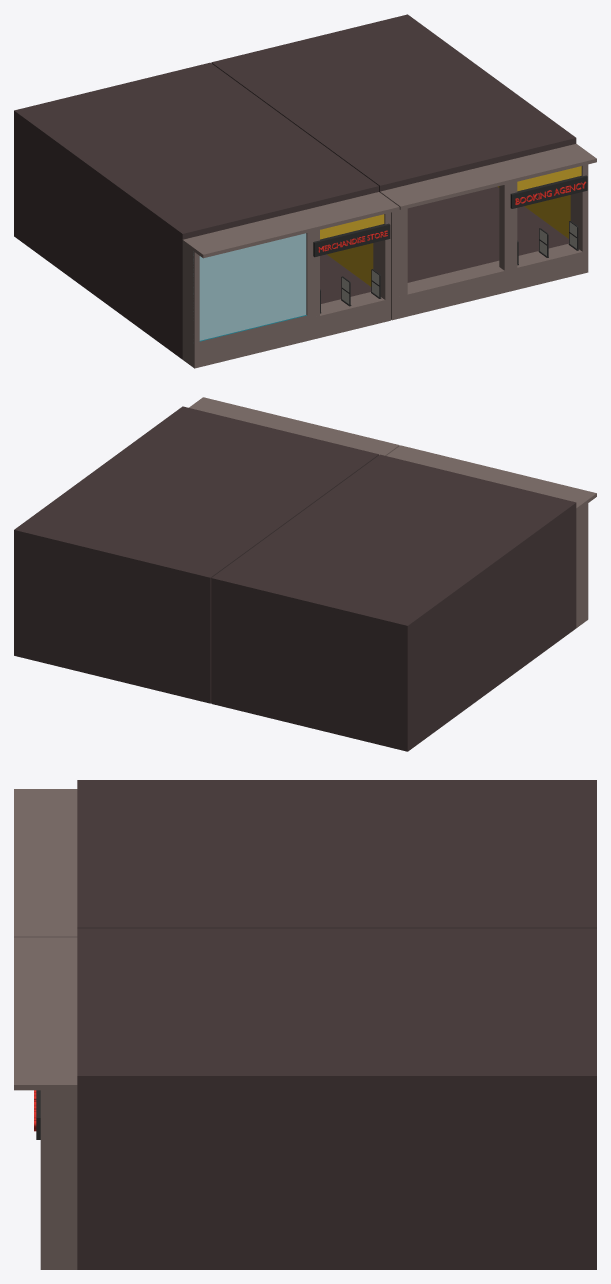
Rendered from Merchandise.fbx.
3 renders of one model, top to bottom at view 1: azimuth 30°, elevation 25°; view 2: azimuth 150°, elevation 25°; view 3: azimuth 270°, elevation 25°, orthographic. The views are drawn at different scales.
Parts seen in each view (by area): view 1: Cube.001, Cube.018, Merchandise, Cube.014, Cube.002, Cube.015, Cube.008, Cube.019, Cube.016, Cube.007, Cube.004, Cube.006 (+3 smaller); view 2: Merchandise, Cube.001, Cube.018, Cube.014; view 3: Cube.014, Cube.018, Cube.001.
Part boxes in pixels (left/top/right/bottom): Cube.001: left=14, top=62, right=399, bottom=258; Cube.018: left=211, top=14, right=596, bottom=209; Merchandise: left=14, top=120, right=390, bottom=368; Cube.014: left=391, top=164, right=588, bottom=320; Cube.002: left=193, top=233, right=306, bottom=340; Cube.015: left=499, top=182, right=517, bottom=270; Cube.008: left=313, top=223, right=390, bottom=257; Cube.019: left=510, top=175, right=587, bottom=208; Cube.016: left=395, top=208, right=407, bottom=297; Cube.007: left=306, top=230, right=319, bottom=318; Cube.004: left=197, top=254, right=307, bottom=345; Cube.006: left=320, top=214, right=384, bottom=239; Merchandise: left=211, top=503, right=588, bottom=751; Cube.001: left=211, top=445, right=596, bottom=635; Cube.018: left=14, top=397, right=399, bottom=586; Cube.014: left=14, top=539, right=211, bottom=703; Cube.014: left=40, top=1090, right=596, bottom=1269; Cube.018: left=14, top=928, right=596, bottom=1090; Cube.001: left=14, top=780, right=596, bottom=937.
Size of the model in its own units: 2727 by 833 by 2269.
8 materials, 6 textured.
